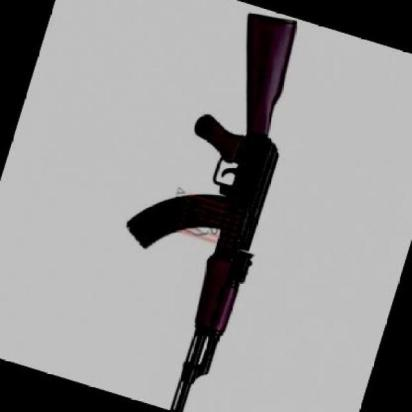Gun: (68, 0, 353, 412)
